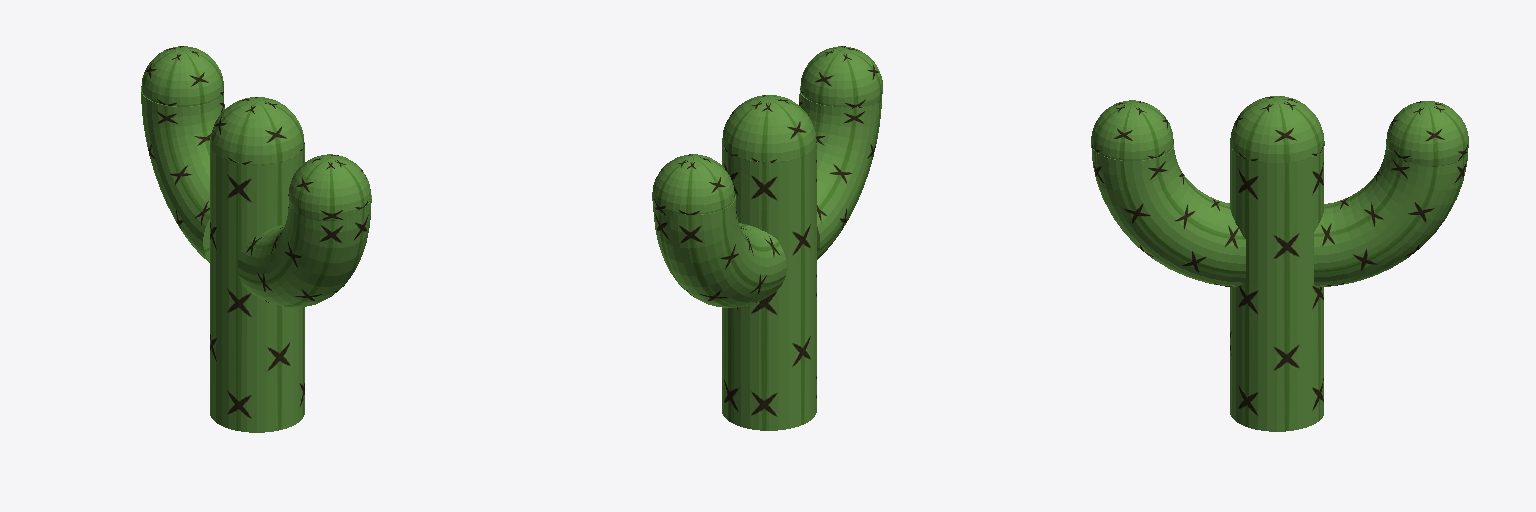
The picture shows the model from 3 angles: view 1: azimuth 30°, elevation 25°; view 2: azimuth 150°, elevation 25°; view 3: azimuth 270°, elevation 25°; orthographic projection.
Visible parts, largest first — view 1: Cylinder001; view 2: Cylinder001; view 3: Cylinder001.
Boxes of the visible parts, <box> form: Cylinder001: <box>141,46,371,432</box>; Cylinder001: <box>652,46,882,430</box>; Cylinder001: <box>1091,96,1468,431</box>.
Size of the model in its own units: 1.6 by 5.8 by 6.38.
Materials: 1 (1 with a texture image).